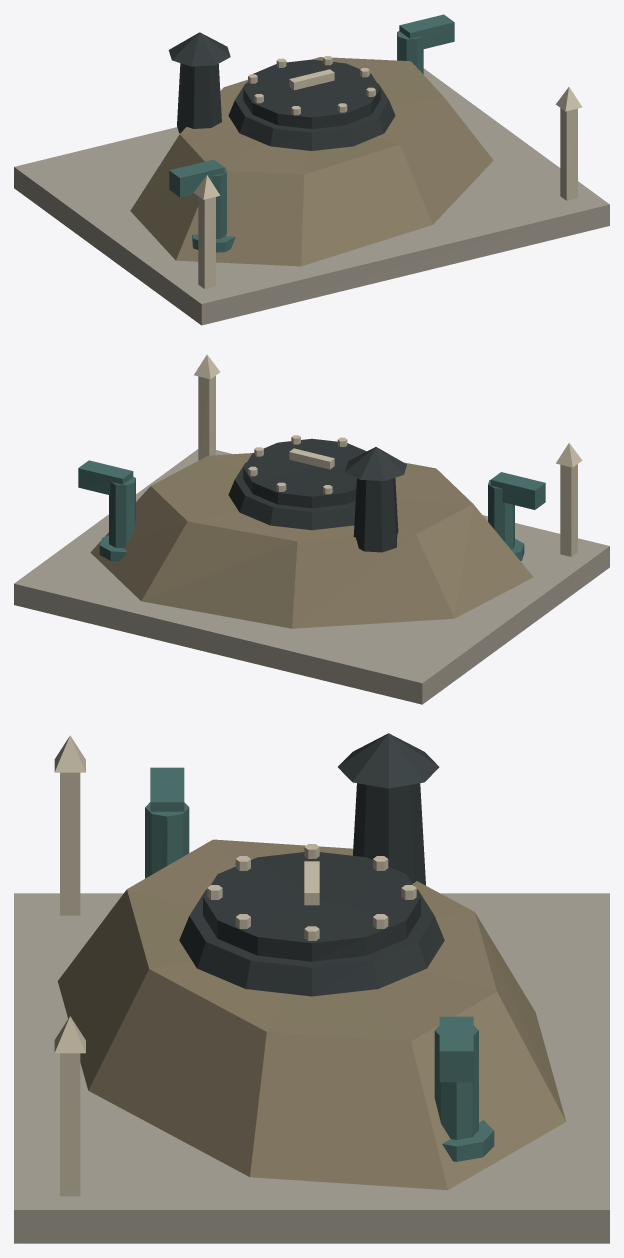
The model's file is underground-cistern.source.glb.
3 renders of one model, top to bottom at view 1: azimuth 30°, elevation 25°; view 2: azimuth 150°, elevation 25°; view 3: azimuth 270°, elevation 25°, orthographic. The views are drawn at different scales.
Visible parts, largest first — view 1: underground-cistern-rectangular-service-slab-mesh, underground-cistern-low-buried-tank-mound-mesh, underground-cistern-bolted-hatch-lid-mesh, underground-cistern-hatch-collar-mesh, underground-cistern-capped-vent-stack-mesh, underground-cistern-cream-safety-marker--1.95-mesh, underground-cistern-cream-safety-marker-1.95-mesh, underground-cistern-vent-stack-cap-mesh, underground-cistern-outlet-horizontal-mouth-mesh, underground-cistern-inlet-horizontal-mouth-mesh, underground-cistern-outlet-pipe-riser-mesh, underground-cistern-inlet-pipe-riser-mesh (+1 smaller); view 2: underground-cistern-low-buried-tank-mound-mesh, underground-cistern-rectangular-service-slab-mesh, underground-cistern-bolted-hatch-lid-mesh, underground-cistern-hatch-collar-mesh, underground-cistern-capped-vent-stack-mesh, underground-cistern-outlet-pipe-riser-mesh, underground-cistern-cream-safety-marker--1.95-mesh, underground-cistern-vent-stack-cap-mesh, underground-cistern-cream-safety-marker-1.95-mesh, underground-cistern-inlet-horizontal-mouth-mesh, underground-cistern-outlet-horizontal-mouth-mesh, underground-cistern-inlet-pipe-riser-mesh (+1 smaller); view 3: underground-cistern-low-buried-tank-mound-mesh, underground-cistern-rectangular-service-slab-mesh, underground-cistern-bolted-hatch-lid-mesh, underground-cistern-hatch-collar-mesh, underground-cistern-capped-vent-stack-mesh, underground-cistern-vent-stack-cap-mesh, underground-cistern-cream-safety-marker--1.95-mesh, underground-cistern-cream-safety-marker-1.95-mesh, underground-cistern-outlet-pipe-riser-mesh, underground-cistern-inlet-pipe-riser-mesh, underground-cistern-outlet-horizontal-mouth-mesh, underground-cistern-inlet-horizontal-mouth-mesh (+4 smaller).
Part boxes in pixels (x1,y1,x2,y2): underground-cistern-rectangular-service-slab-mesh: (14,68,609,325); underground-cistern-low-buried-tank-mound-mesh: (130,57,493,266); underground-cistern-bolted-hatch-lid-mesh: (243,59,380,128); underground-cistern-hatch-collar-mesh: (228,83,395,150); underground-cistern-capped-vent-stack-mesh: (177,63,221,133); underground-cistern-cream-safety-marker--1.95-mesh: (198,196,215,288); underground-cistern-cream-safety-marker-1.95-mesh: (560,108,577,200); underground-cistern-vent-stack-cap-mesh: (168,32,230,66); underground-cistern-outlet-horizontal-mouth-mesh: (399,14,454,49); underground-cistern-inlet-horizontal-mouth-mesh: (169,159,224,197); underground-cistern-outlet-pipe-riser-mesh: (397,31,423,74); underground-cistern-inlet-pipe-riser-mesh: (212,167,226,238); underground-cistern-low-buried-tank-mound-mesh: (90,453,533,628); underground-cistern-rectangular-service-slab-mesh: (14,449,609,704); underground-cistern-bolted-hatch-lid-mesh: (243,438,366,508); underground-cistern-hatch-collar-mesh: (228,462,355,530); underground-cistern-capped-vent-stack-mesh: (353,478,398,552); underground-cistern-outlet-pipe-riser-mesh: (109,477,135,548); underground-cistern-cream-safety-marker--1.95-mesh: (560,464,577,556); underground-cistern-vent-stack-cap-mesh: (345,447,406,480); underground-cistern-cream-safety-marker-1.95-mesh: (198,376,215,460); underground-cistern-inlet-horizontal-mouth-mesh: (490,472,545,509); underground-cistern-outlet-horizontal-mouth-mesh: (78,460,133,495); underground-cistern-inlet-pipe-riser-mesh: (488,480,514,549); underground-cistern-low-buried-tank-mound-mesh: (57,839,566,1190); underground-cistern-rectangular-service-slab-mesh: (14,893,609,1243); underground-cistern-bolted-hatch-lid-mesh: (203,852,420,961); underground-cistern-hatch-collar-mesh: (179,889,444,996); underground-cistern-capped-vent-stack-mesh: (353,783,425,885); underground-cistern-vent-stack-cap-mesh: (338,733,439,788); underground-cistern-cream-safety-marker--1.95-mesh: (60,772,80,915); underground-cistern-cream-safety-marker-1.95-mesh: (60,1053,80,1196); underground-cistern-outlet-pipe-riser-mesh: (434,1025,478,1139); underground-cistern-inlet-pipe-riser-mesh: (145,802,189,878); underground-cistern-outlet-horizontal-mouth-mesh: (439,1016,473,1082); underground-cistern-inlet-horizontal-mouth-mesh: (150,767,184,811).
Bounding box in the file's own units: 4.4 × 1.84 × 3.5.
